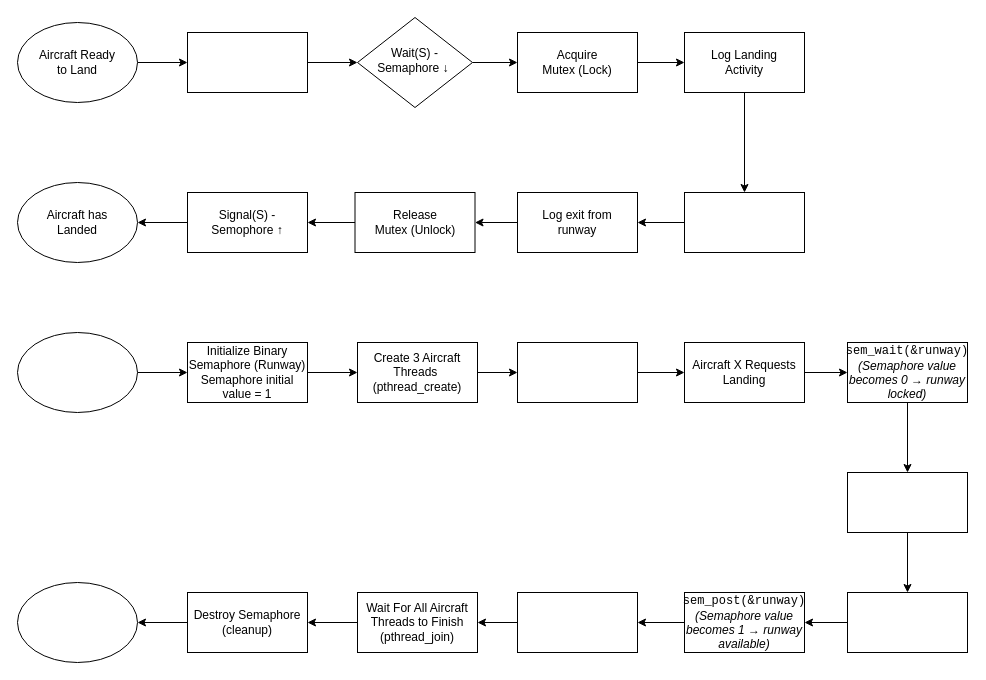
Image size: 986x680. Some labels were removed from this diagram. Here are the shapes that lost their labels. From the top down, the box of each, then its label:
(186, 32, 308, 92): Add to Landing Queue (FIFO)
(684, 192, 804, 252): Aircraft is Landing
(16, 332, 138, 412): Start
(516, 342, 638, 402): Aircraft X Thread Starts
(846, 472, 968, 532): Landing Permission Granted
(16, 582, 138, 662): End
(516, 592, 638, 652): Aircraft X thread ends
(846, 592, 968, 652): Aircraft X is Landing (sleep 2 seconds)
